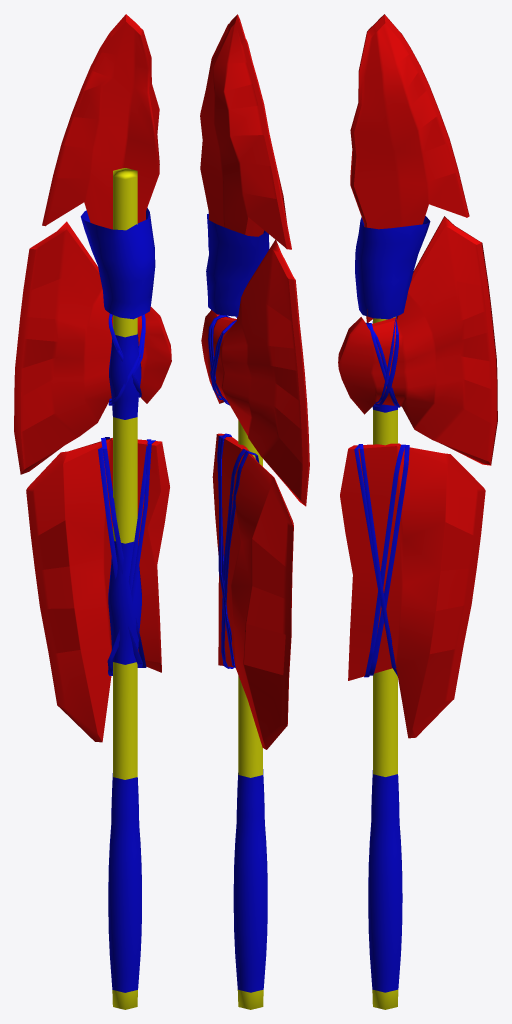
The model's file is sword.fbx.
The picture shows the model from 3 angles, left to right: view 1: azimuth 90°, elevation 25°; view 2: azimuth 210°, elevation 25°; view 3: azimuth 270°, elevation 25°; orthographic projection.
Parts seen in each view (by area): view 1: polySurface8; view 2: polySurface8; view 3: polySurface8.
Part boxes in pixels (left/top/right/bottom): polySurface8: left=14, top=14, right=171, bottom=1009; polySurface8: left=200, top=14, right=309, bottom=1009; polySurface8: left=338, top=14, right=497, bottom=1009.
Size of the model in its own units: 2.17 by 35.13 by 5.11.
